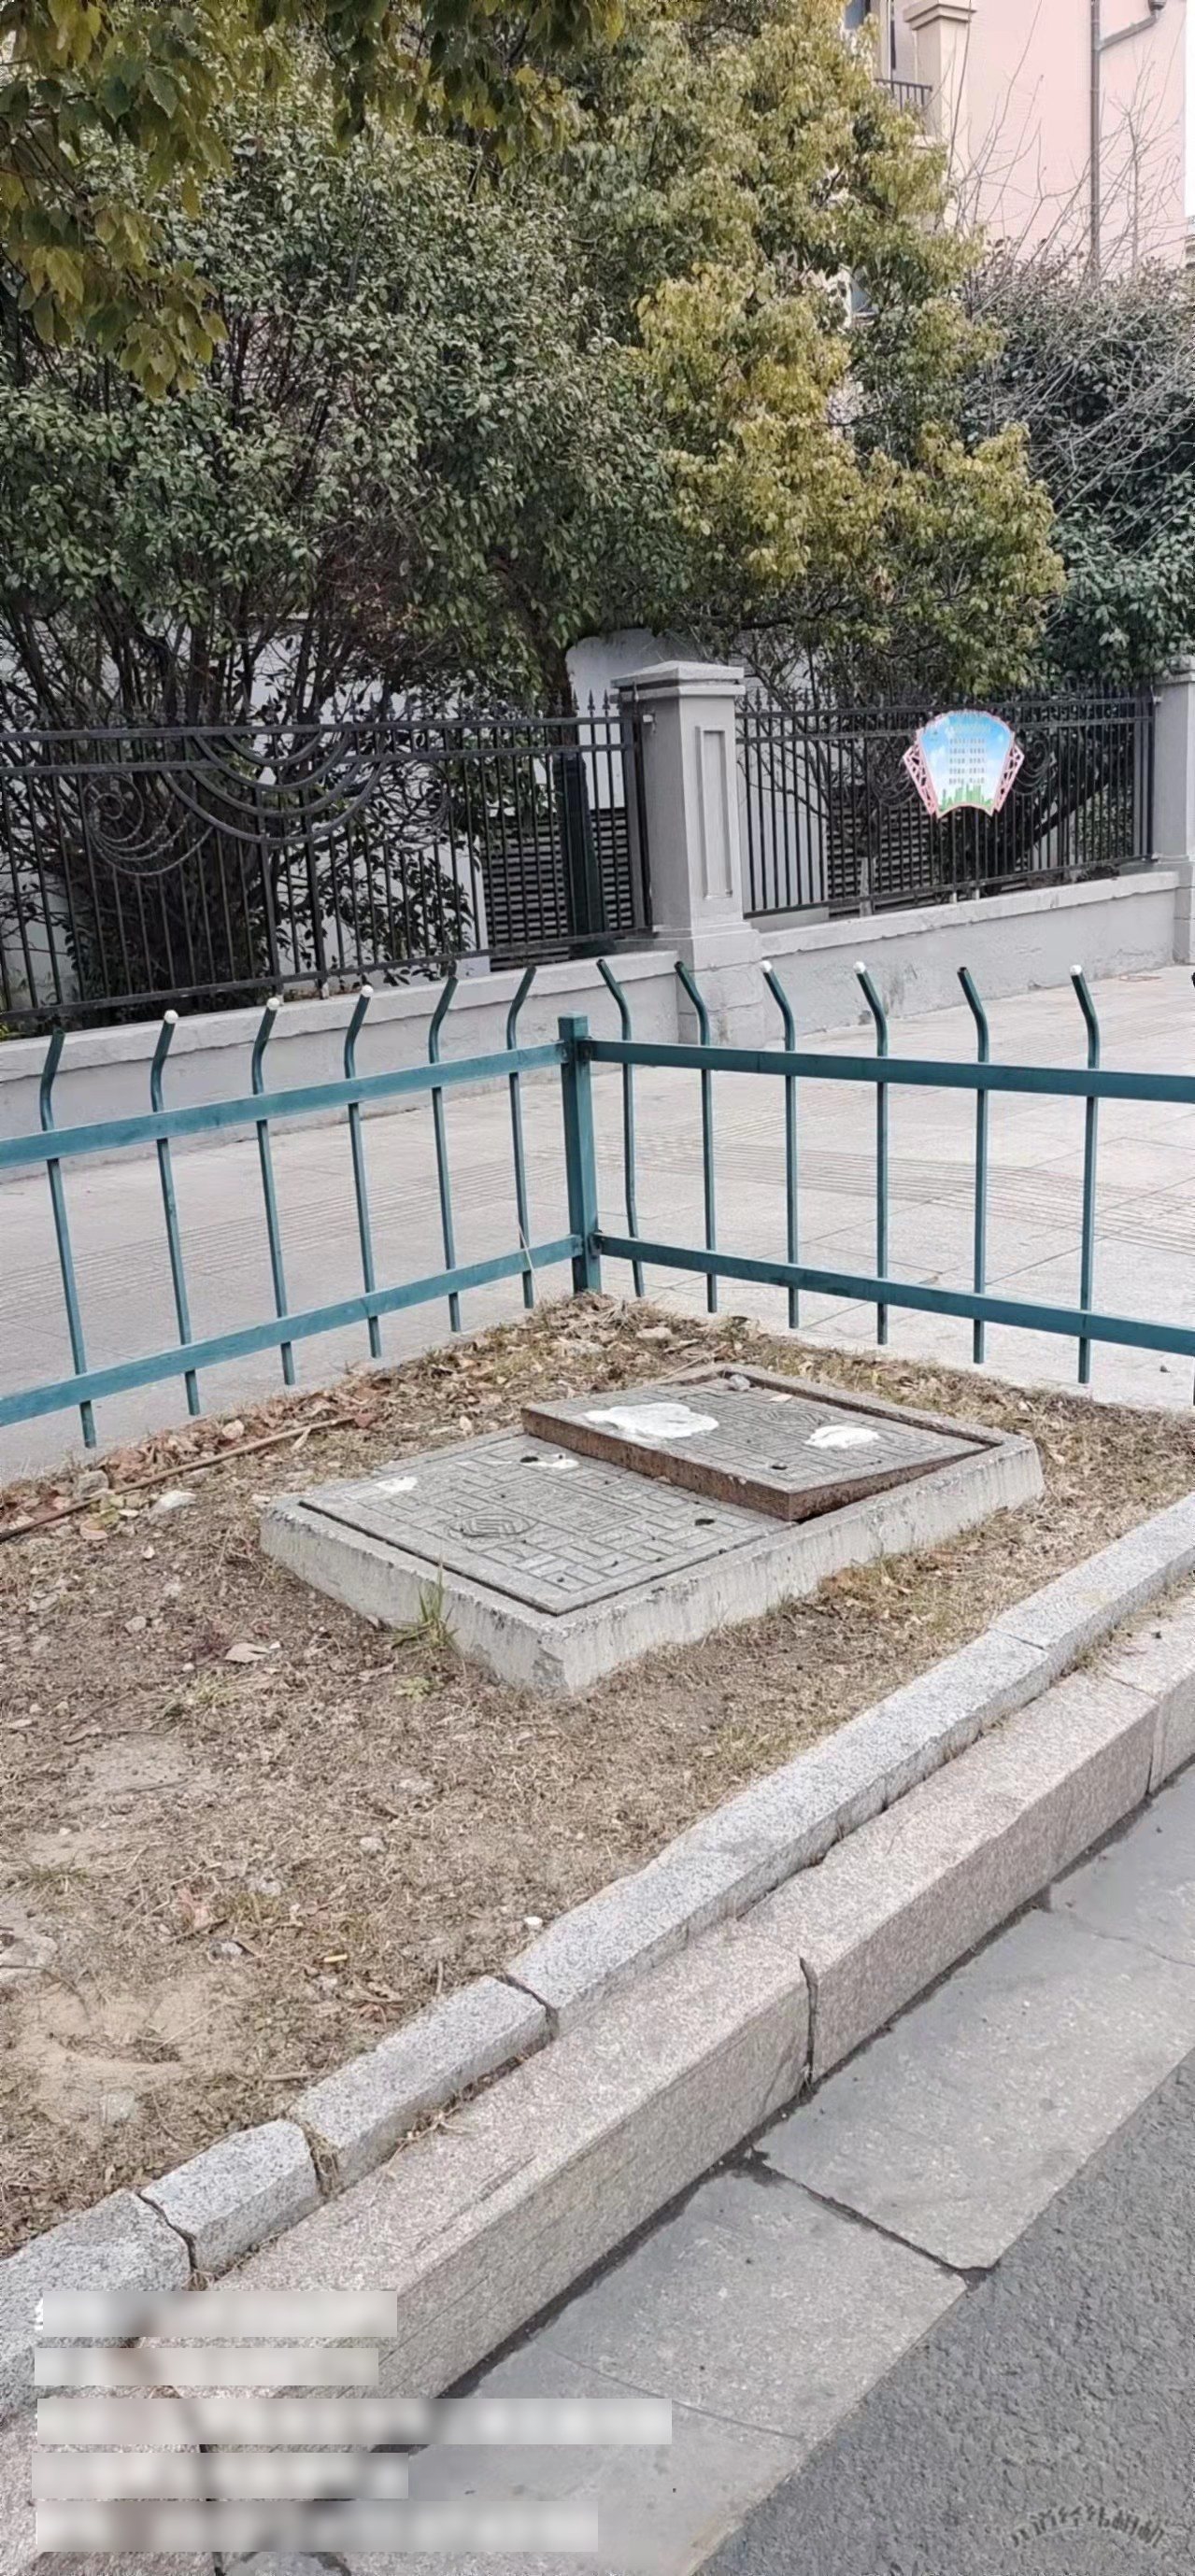uncovered: (253, 1362, 1042, 1686)
